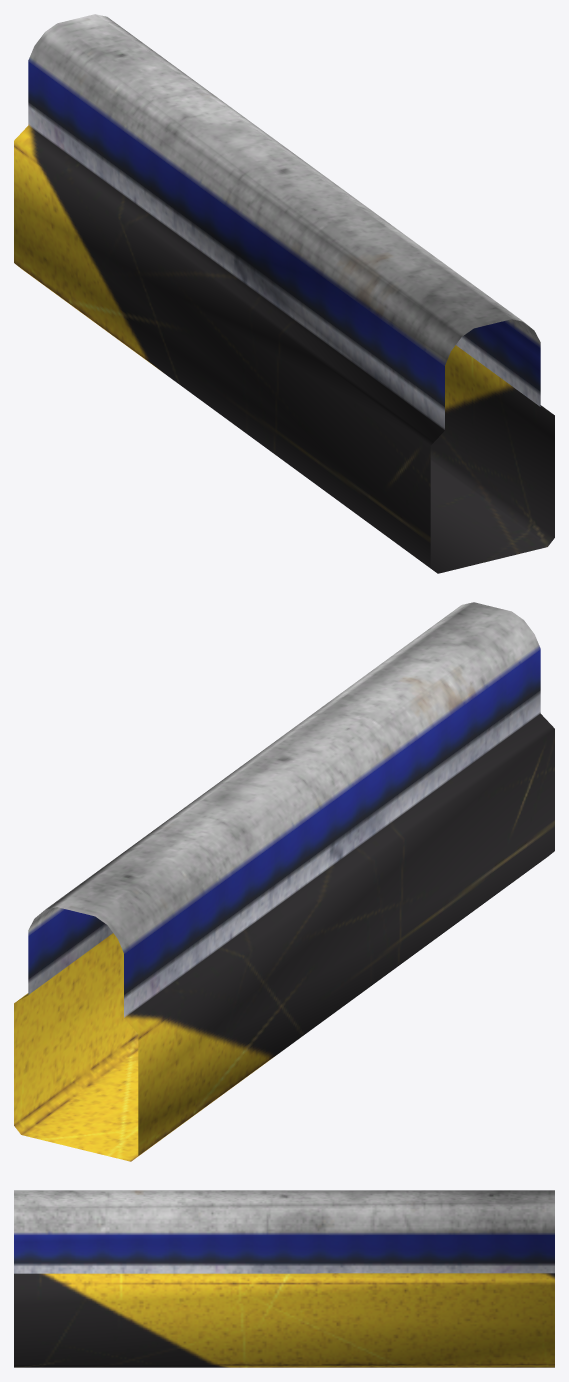
The model's file is Ob_GrindRail03_RC.fbx.
3 renders of one model, top to bottom at view 1: azimuth 30°, elevation 25°; view 2: azimuth 150°, elevation 25°; view 3: azimuth 270°, elevation 25°, orthographic. The views are drawn at different scales.
Parts seen in each view (by area): view 1: Ob_GrindRail03_RC; view 2: Ob_GrindRail03_RC; view 3: Ob_GrindRail03_RC.
Part boxes in pixels (box(x1,y1,x2,y2)): Ob_GrindRail03_RC: box(14, 14, 554, 573); Ob_GrindRail03_RC: box(14, 602, 554, 1161); Ob_GrindRail03_RC: box(14, 1190, 554, 1367).
Size of the model in its own units: 34.44 by 62.67 by 200.
